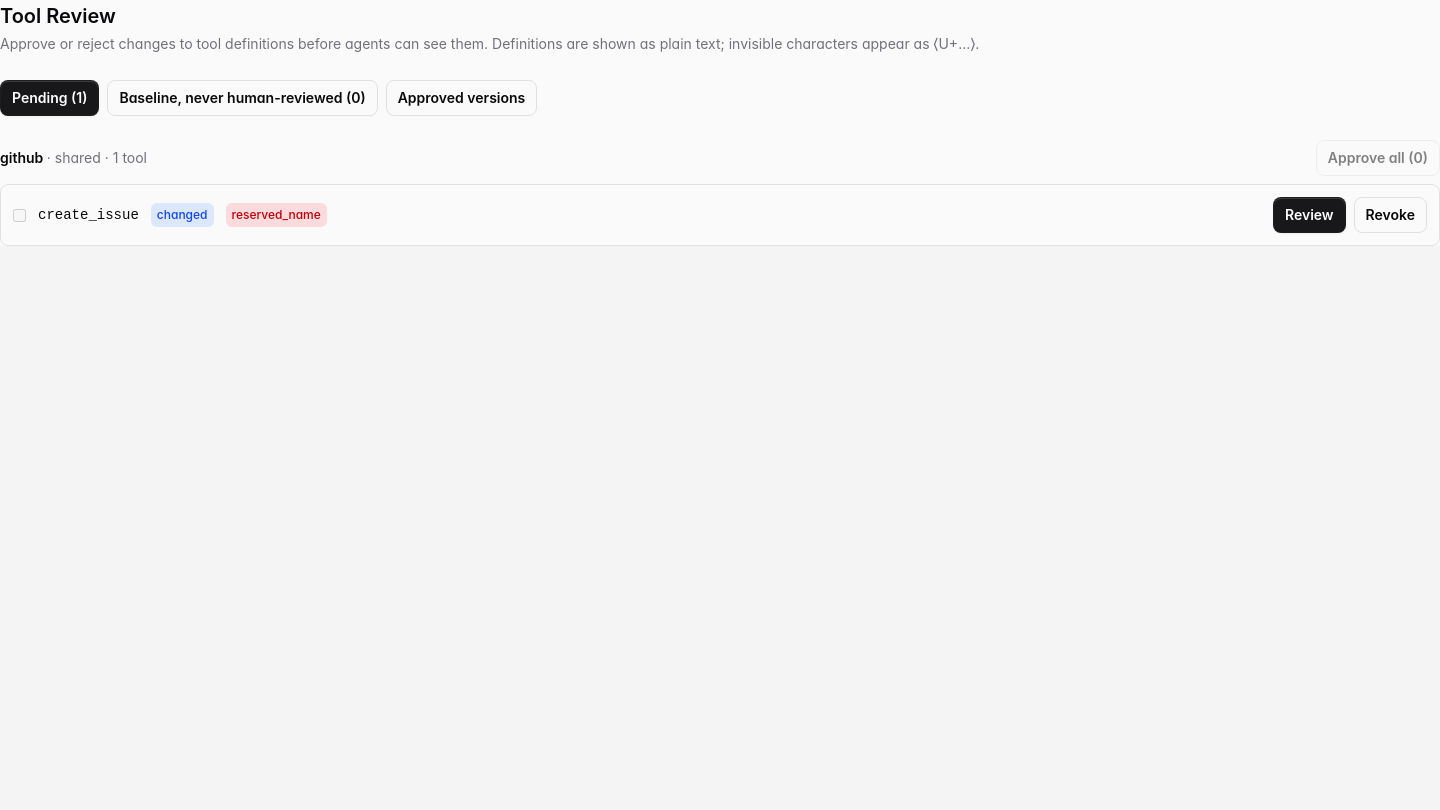
Scenario: ToolReview › disables approve for reserved_name
This screenshot has width=1440, height=810.
Step 1. Click the button "Review" → (1309, 215), box [1273,197,1346,233]
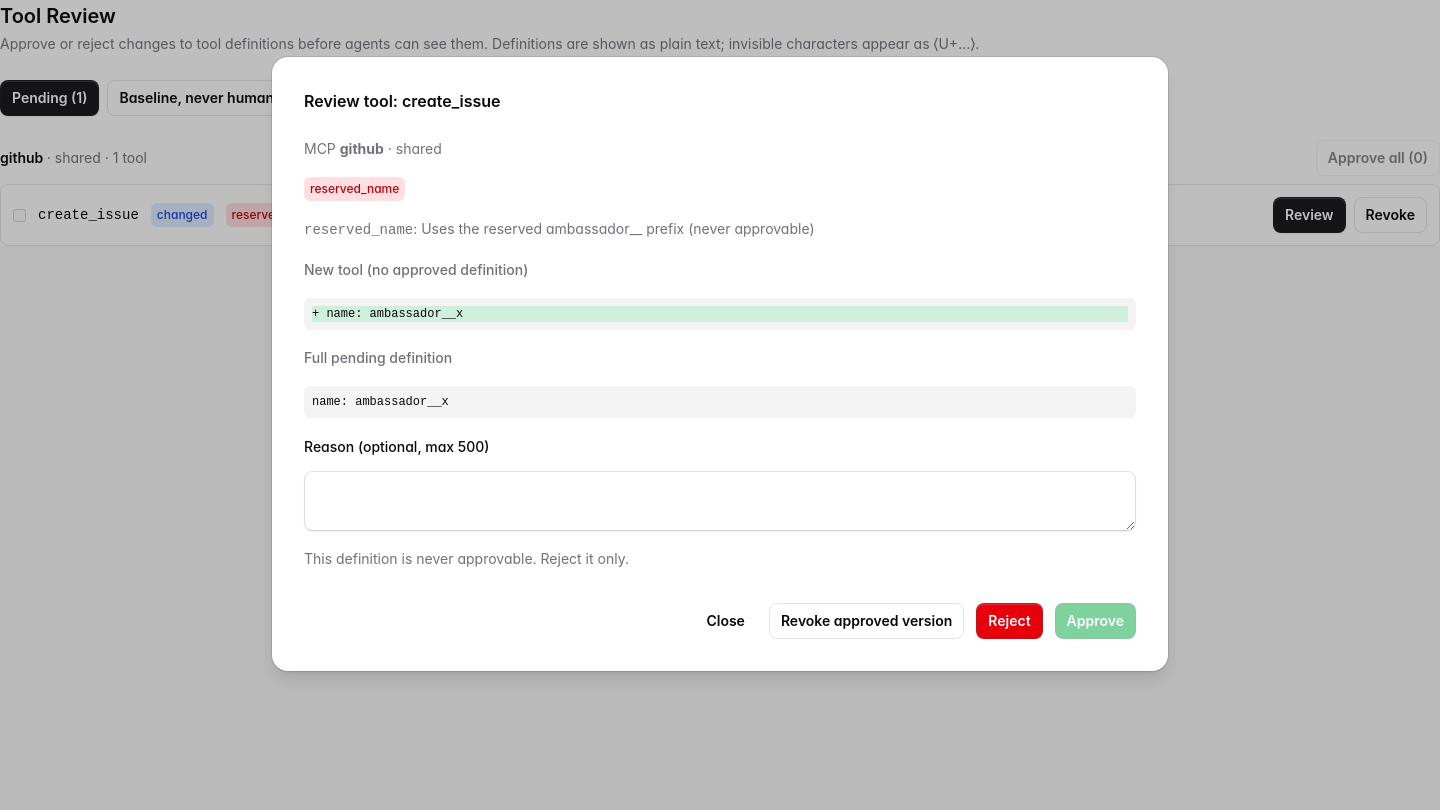
Result: the element with test id "pin-diff" is shown at [304,298,1136,330]
Result: the button "Approve" is disabled at [1055,603,1136,639]
Result: the button "Reject" is enabled at [976,603,1043,639]
